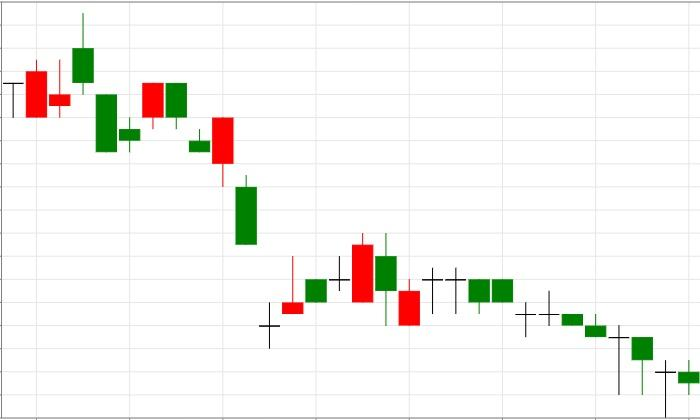hammer_rise: (422, 268, 653, 396)
